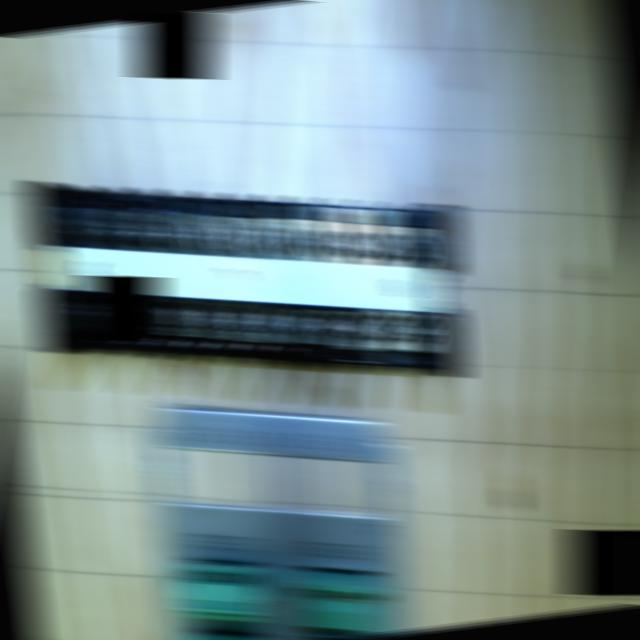Phillips_Block: (18, 181, 474, 375)
Terminal_2: (175, 564, 268, 622)
